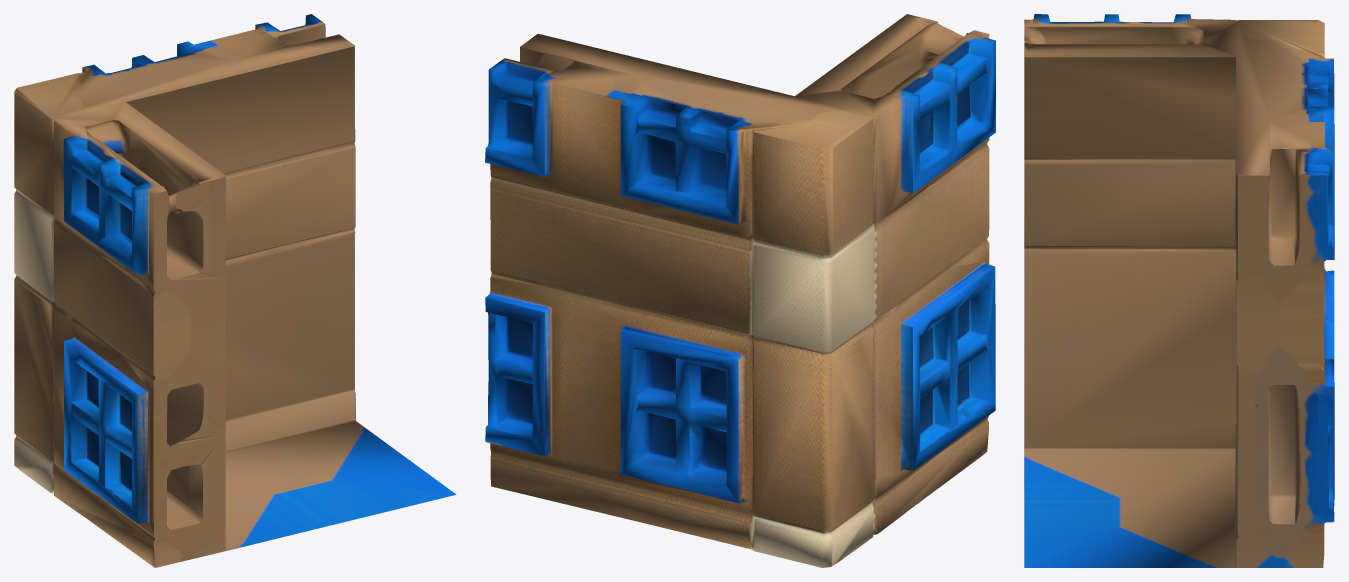
File: 7-upper-walls-back-left.fbx
3 views of the same model, side by side, from view 1: azimuth 30°, elevation 25°; view 2: azimuth 150°, elevation 25°; view 3: azimuth 270°, elevation 25° (orthographic). The views are drawn at different scales.
Parts seen in each view (by area): view 1: upper-walls-back-left; view 2: upper-walls-back-left; view 3: upper-walls-back-left.
Part boxes in pixels (box(x1,y1,x2,y2)): upper-walls-back-left: box(14, 14, 456, 567); upper-walls-back-left: box(485, 14, 995, 567); upper-walls-back-left: box(1024, 14, 1334, 567).
Size of the model in its own units: 5222 by 5952 by 4259.
Materials: 1 (1 with a texture image).
